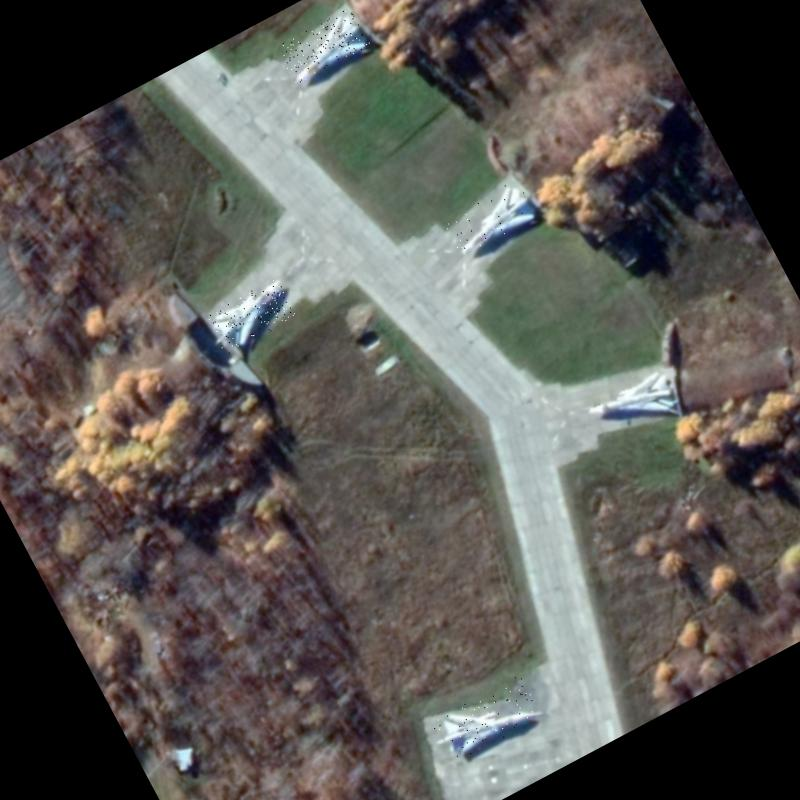A20: (430, 674, 543, 764), (583, 365, 683, 446), (442, 177, 540, 257), (204, 276, 298, 354), (276, 6, 370, 84)
